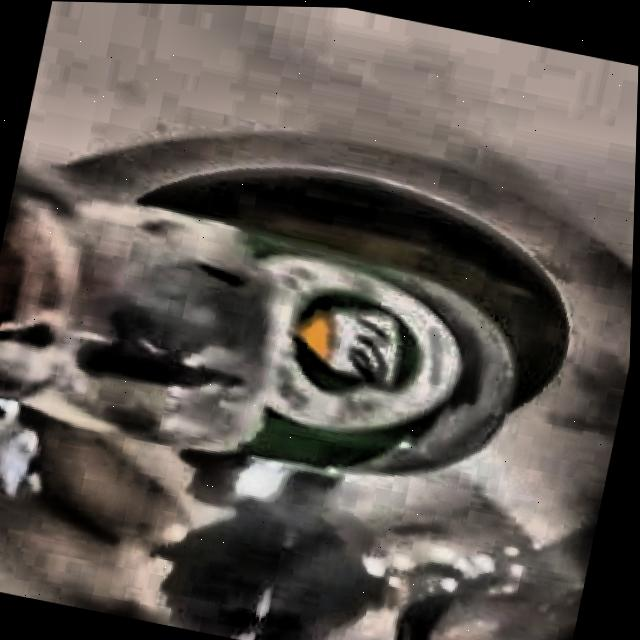glass: (0, 162, 518, 470)
